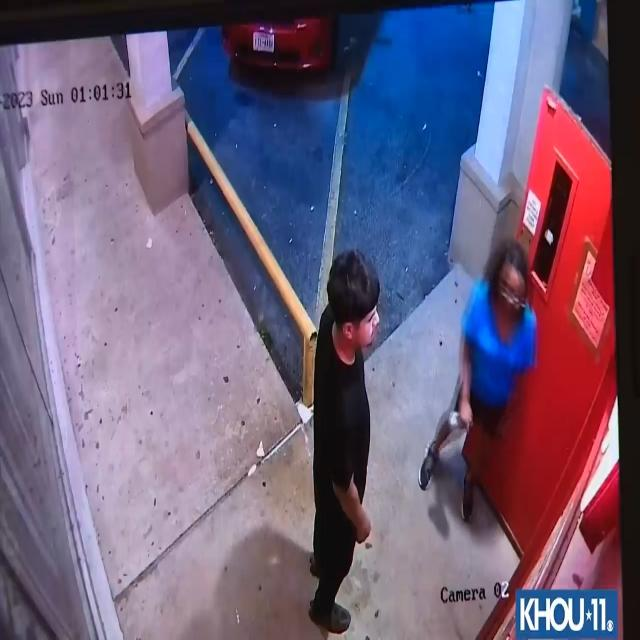Person: (440, 230, 537, 531), (306, 237, 376, 632)
